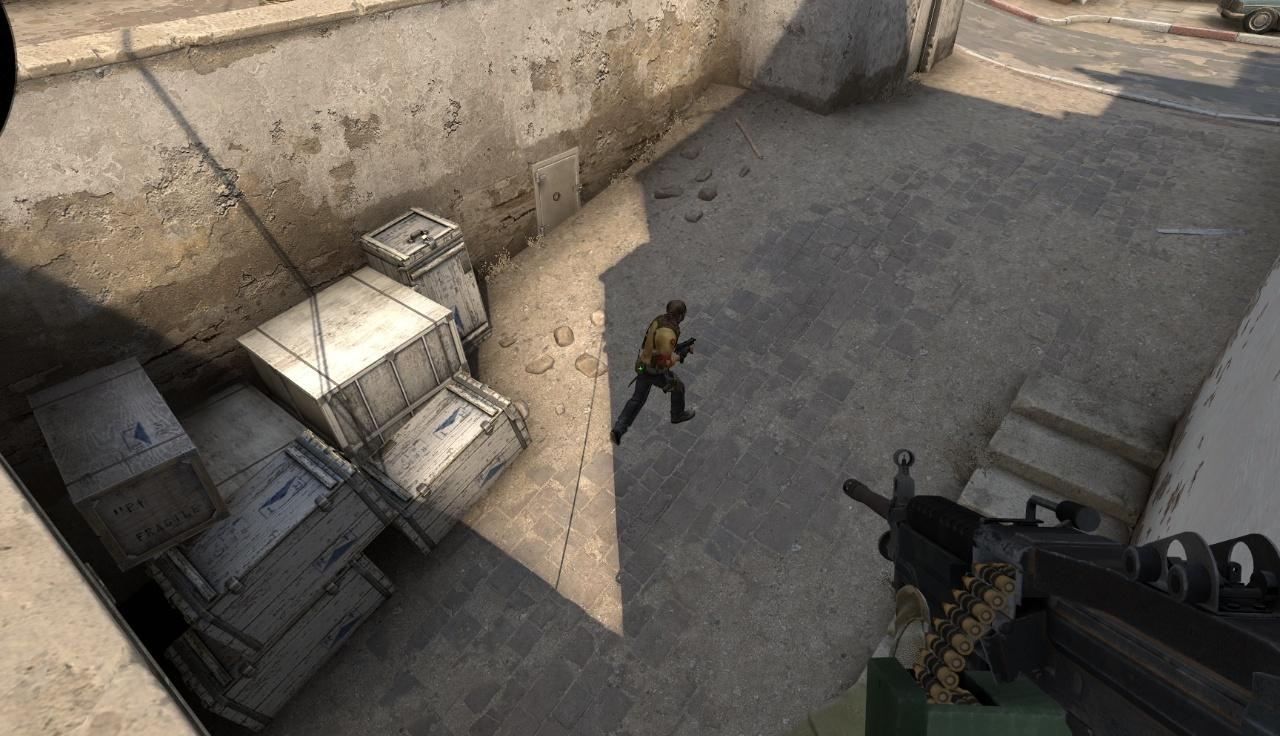rifle: (844, 449, 1280, 736)
tt: (630, 300, 695, 424)
tthead: (666, 301, 687, 323)
